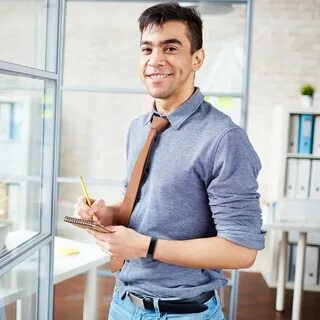awake: (75, 1, 263, 320)
